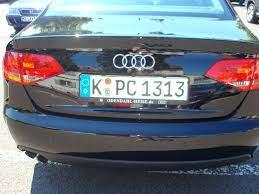1: (141, 79, 151, 97), (163, 81, 173, 98)
3: (174, 80, 185, 98), (151, 80, 162, 97)
C: (126, 79, 139, 96)
K: (91, 79, 102, 95)
P: (114, 78, 126, 96)
